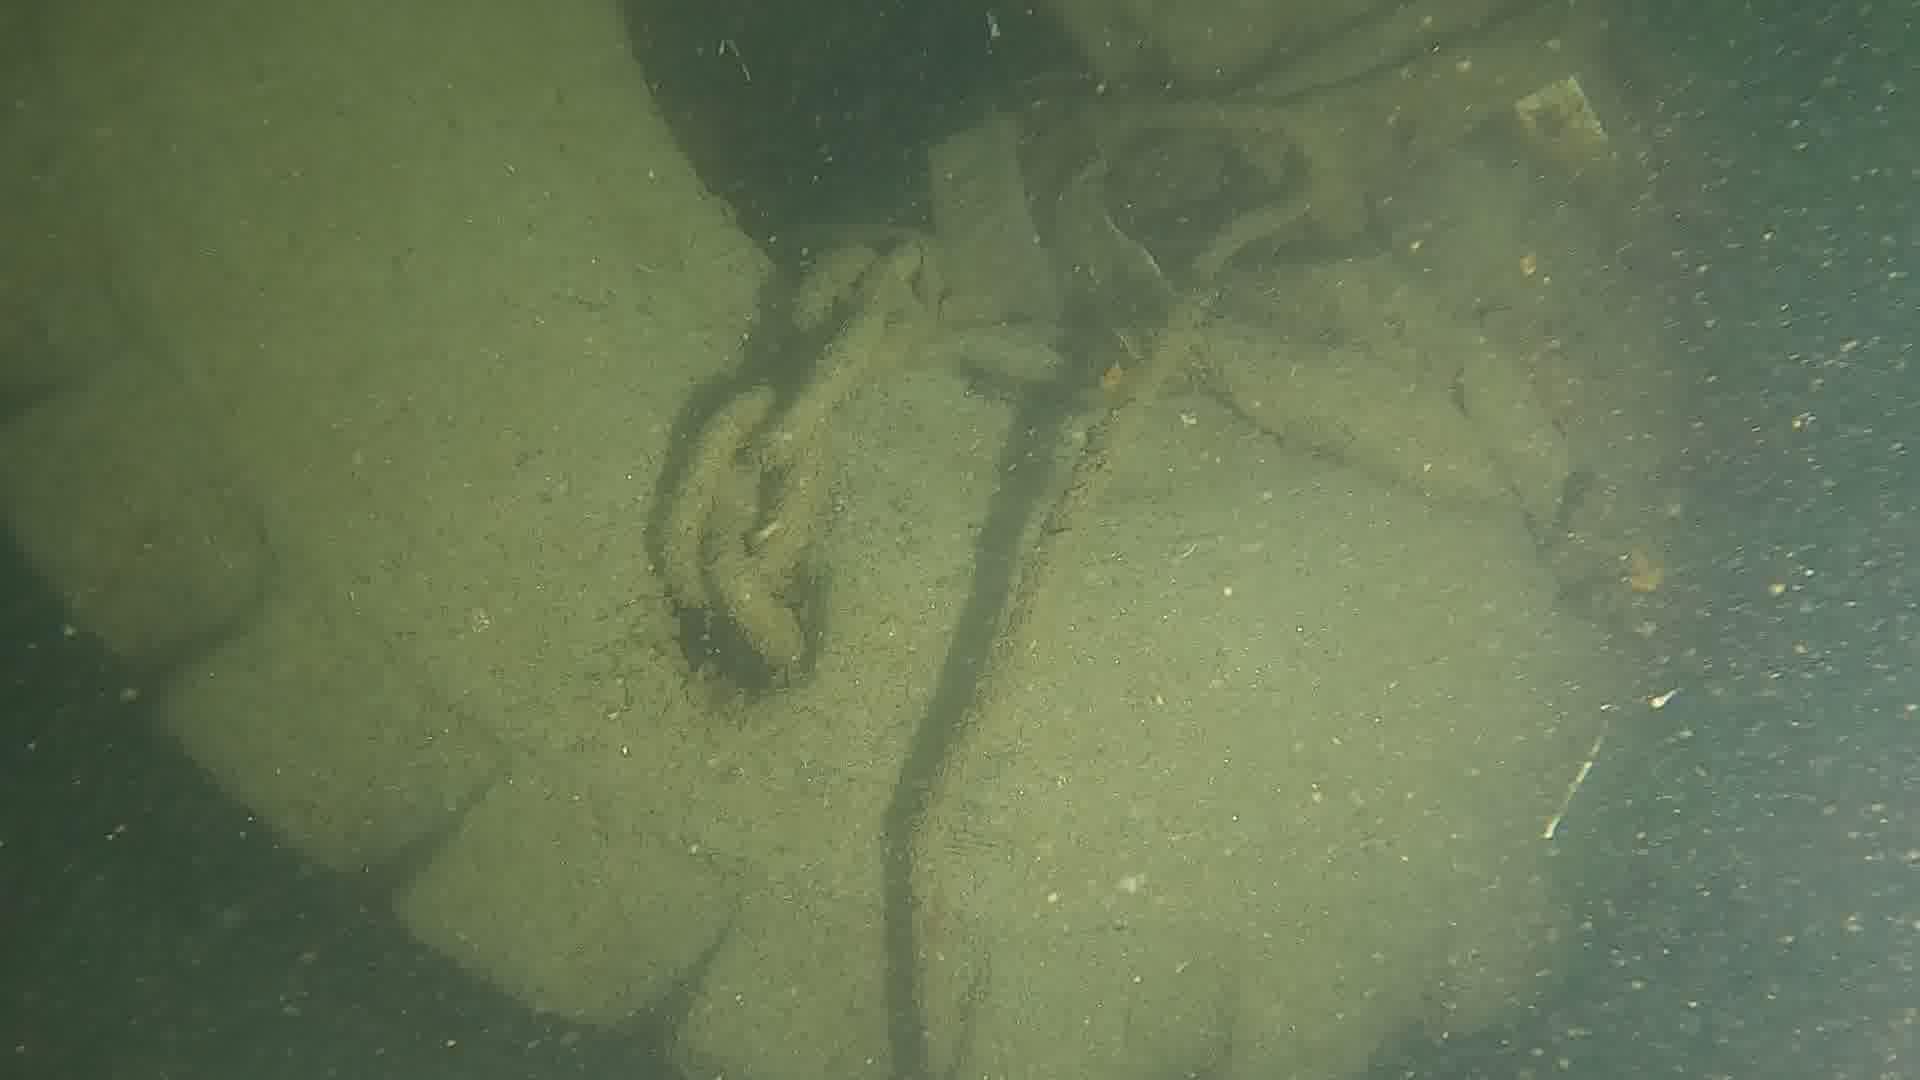tire: (0, 0, 1683, 1080)
